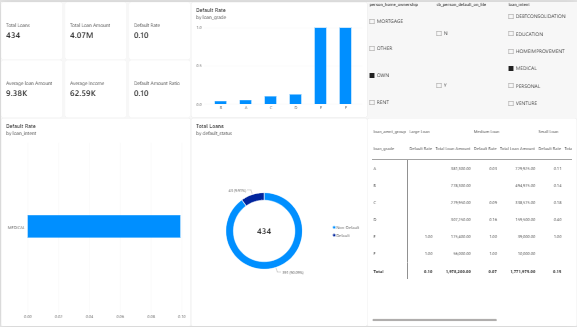

This screenshot's page, from the dashboard's own definition file:
{"tool":"powerbi","page":{"name":"Executive Summary","canvas":[1920,1080],"ordinal":0},"visuals":[{"type":"cardVisual","fields":{"Data":["credit_risk_dataset.Total Loans","credit_risk_dataset.Total Loan Amount","credit_risk_dataset.Default Rate"]},"box":[0,0,632.5,192.5],"z":0},{"type":"cardVisual","fields":{"Data":["credit_risk_dataset.Average loan Amount","credit_risk_dataset.Average Income","credit_risk_dataset.Default Amount Ratio"]},"box":[0,192.5,632.5,192.5],"z":1},{"type":"columnChart","fields":{"Category":["credit_risk_dataset.loan_grade"],"Y":["credit_risk_dataset.Default Rate"]},"box":[632.5,0,587.5,385],"z":2},{"type":"barChart","fields":{"Category":["credit_risk_dataset.loan_intent"],"Y":["credit_risk_dataset.Default Rate"]},"box":[0,385,632.5,695],"z":3},{"type":"donutChart","fields":{"Category":["credit_risk_dataset.default_status"],"Y":["credit_risk_dataset.Total Loans"]},"box":[632.5,385,587.5,695],"z":4},{"type":"pivotTable","fields":{"Columns":["credit_risk_dataset.loan_amnt_group"],"Rows":["credit_risk_dataset.loan_grade"],"Values":["credit_risk_dataset.Default Rate","credit_risk_dataset.Total Loan Amount"]},"box":[1220,385,700,695],"z":5},{"type":"slicer","fields":{"Values":["credit_risk_dataset.person_home_ownership"]},"box":[1220,0,222.5,385],"z":6},{"type":"slicer","fields":{"Values":["credit_risk_dataset.cb_person_default_on_file"]},"box":[1442,0,240,386],"z":8},{"type":"slicer","fields":{"Values":["credit_risk_dataset.loan_intent"]},"box":[1684,0,236,386],"z":9}]}

Visuals, with their boxes in screenshot pixels (x1, y1, x2, y2), scaled from the page's 1920x1080 canvas onto the 577x327 screenshot:
cardVisual - credit_risk_dataset.Total Loans x credit_risk_dataset.Total Loan Amount: Rect(0, 0, 190, 58)
cardVisual - credit_risk_dataset.Average loan Amount x credit_risk_dataset.Average Income: Rect(0, 58, 190, 117)
columnChart - credit_risk_dataset.loan_grade x credit_risk_dataset.Default Rate: Rect(190, 0, 367, 117)
barChart - credit_risk_dataset.loan_intent x credit_risk_dataset.Default Rate: Rect(0, 117, 190, 326)
donutChart - credit_risk_dataset.default_status x credit_risk_dataset.Total Loans: Rect(190, 117, 367, 326)
pivotTable - credit_risk_dataset.loan_amnt_group x credit_risk_dataset.loan_grade: Rect(367, 117, 576, 326)
slicer - credit_risk_dataset.person_home_ownership: Rect(367, 0, 434, 117)
slicer - credit_risk_dataset.cb_person_default_on_file: Rect(433, 0, 505, 117)
slicer - credit_risk_dataset.loan_intent: Rect(506, 0, 576, 117)
